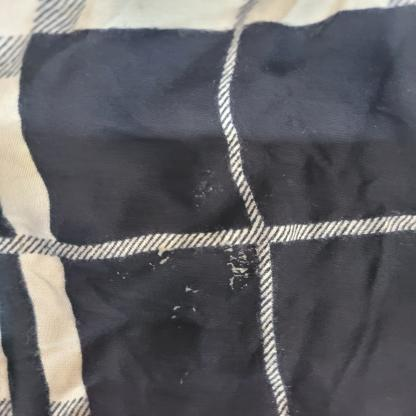spot: (175, 282, 206, 318), (221, 253, 254, 286), (196, 179, 222, 200), (154, 249, 179, 270)
